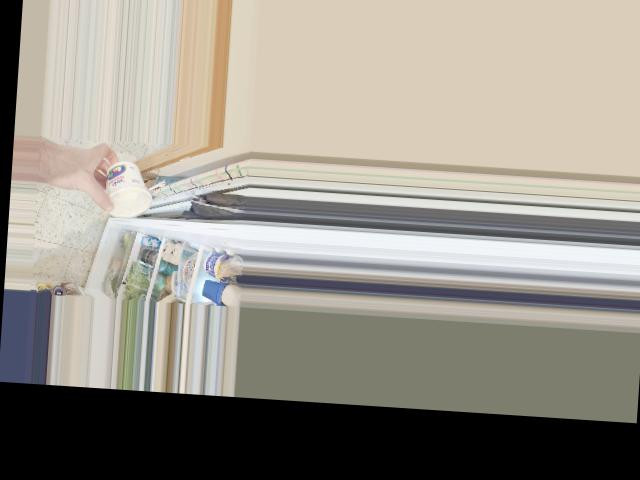cotage: (96, 160, 150, 207)
